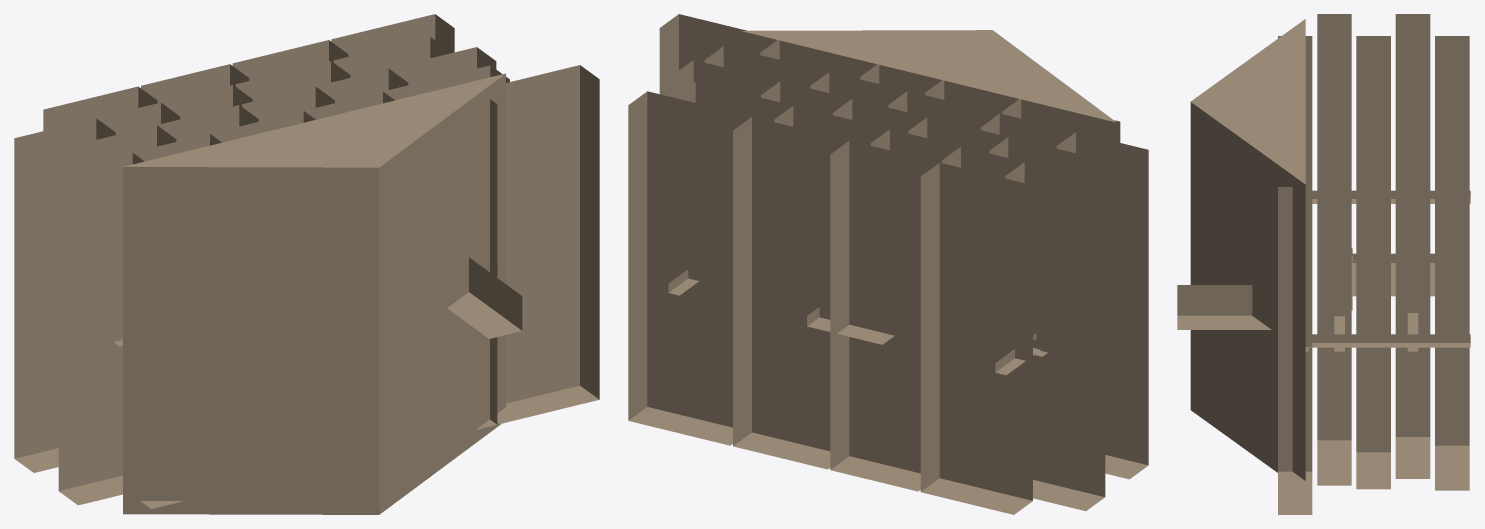
File: general_store.glb
3 renders of one model, left to right at view 1: azimuth 30°, elevation 25°; view 2: azimuth 150°, elevation 25°; view 3: azimuth 270°, elevation 25°, orthographic. The views are drawn at different scales.
Visible parts, largest first — view 1: world; view 2: world; view 3: world.
Part boxes in pixels (bbox=[...]): world: bbox=[14, 14, 599, 514]; world: bbox=[628, 14, 1148, 514]; world: bbox=[1177, 14, 1470, 514].
Bounding box in the file's own units: 9.78 × 6.5 × 5.6.
